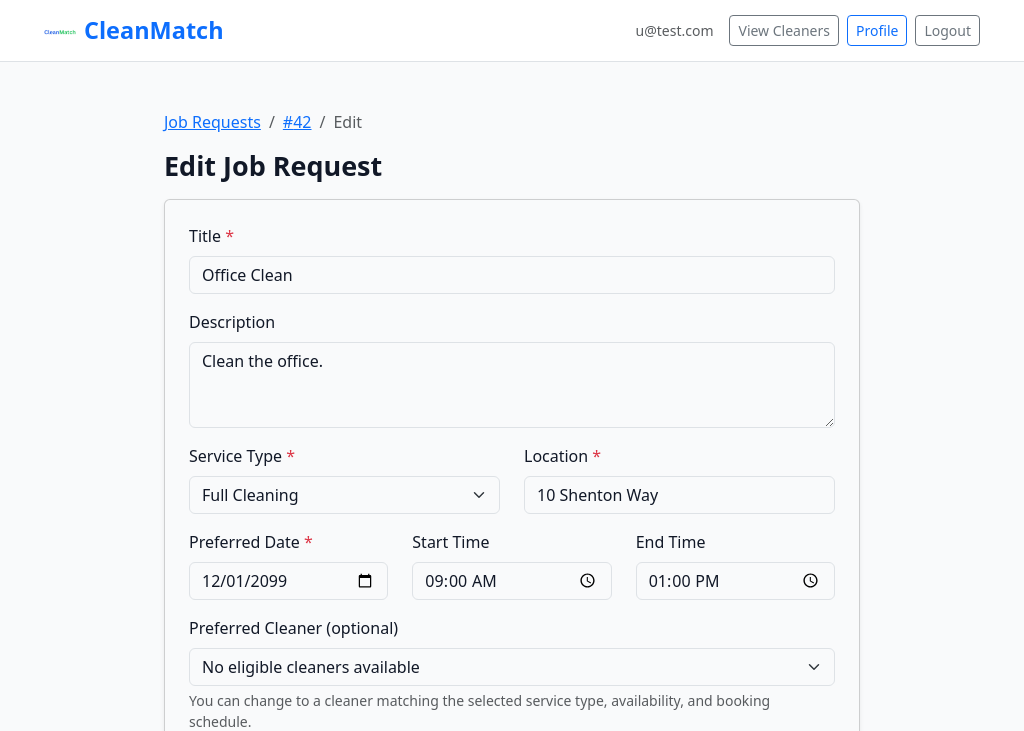
Test: EditJobRequestPage › shows title validation error when title is cleared
Clear the field below "Title": (512, 274) [189,256,835,294]
(page scrolled)
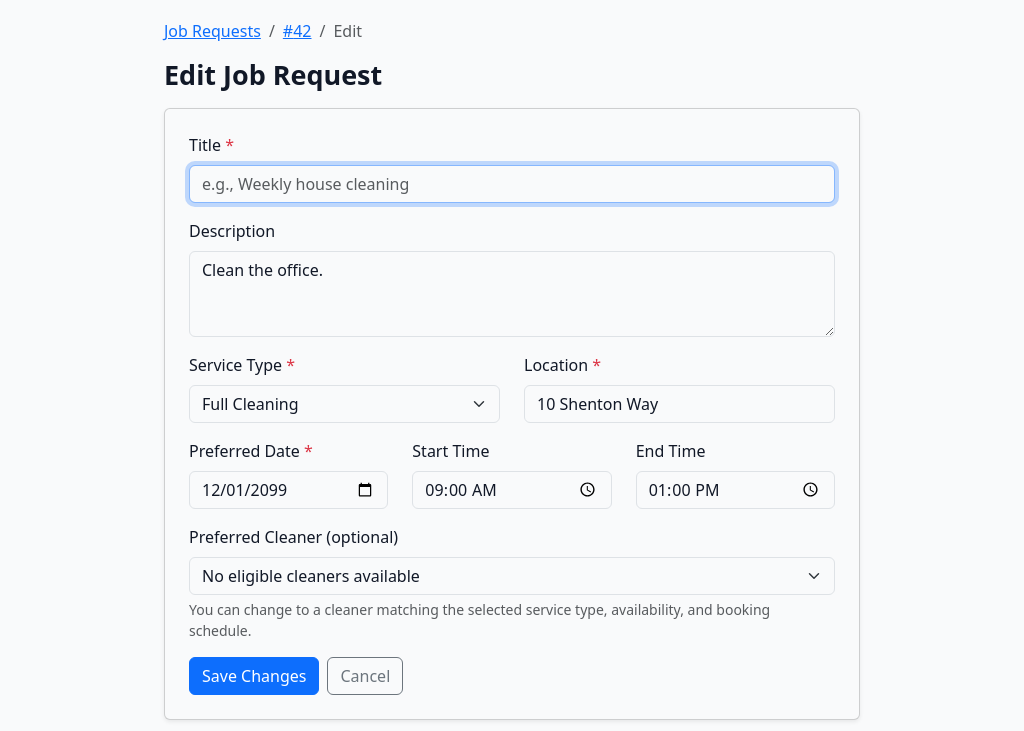
Submit the form, box [164,108,860,720]
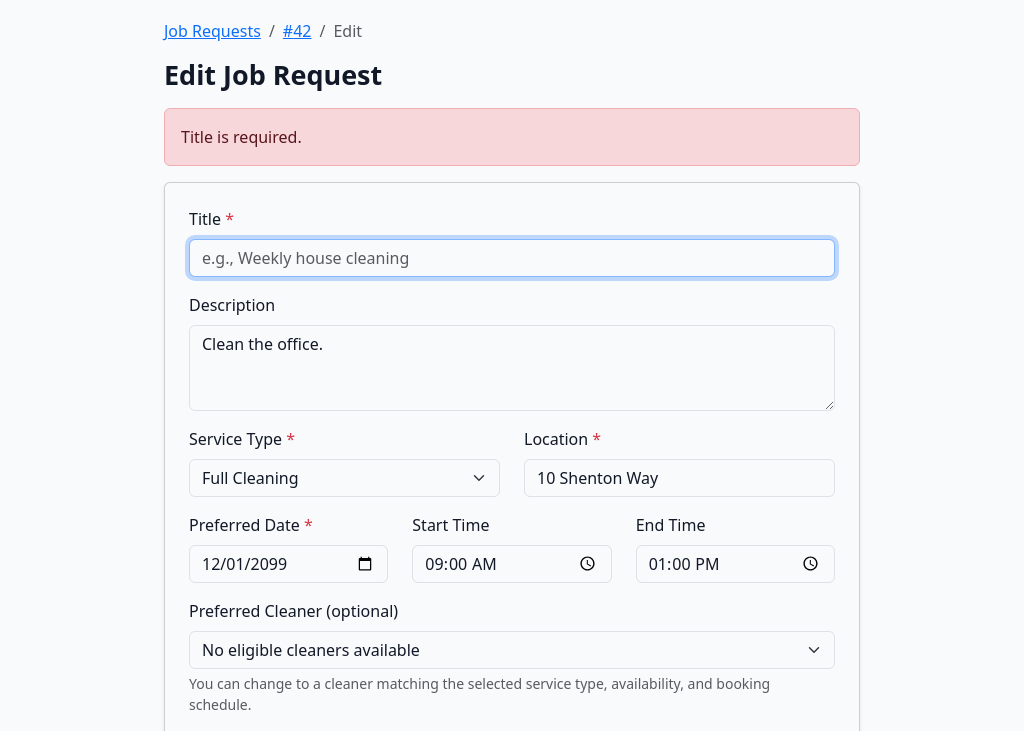
Result: the text "Title is required." is shown at [164,108,860,166]
